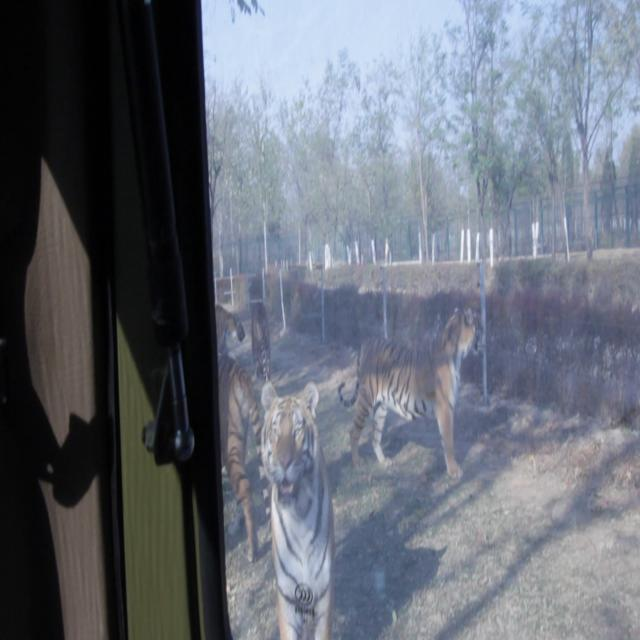Tiger: (331, 299, 498, 497), (256, 374, 341, 636), (217, 354, 268, 562), (246, 284, 278, 379), (214, 291, 251, 348)
